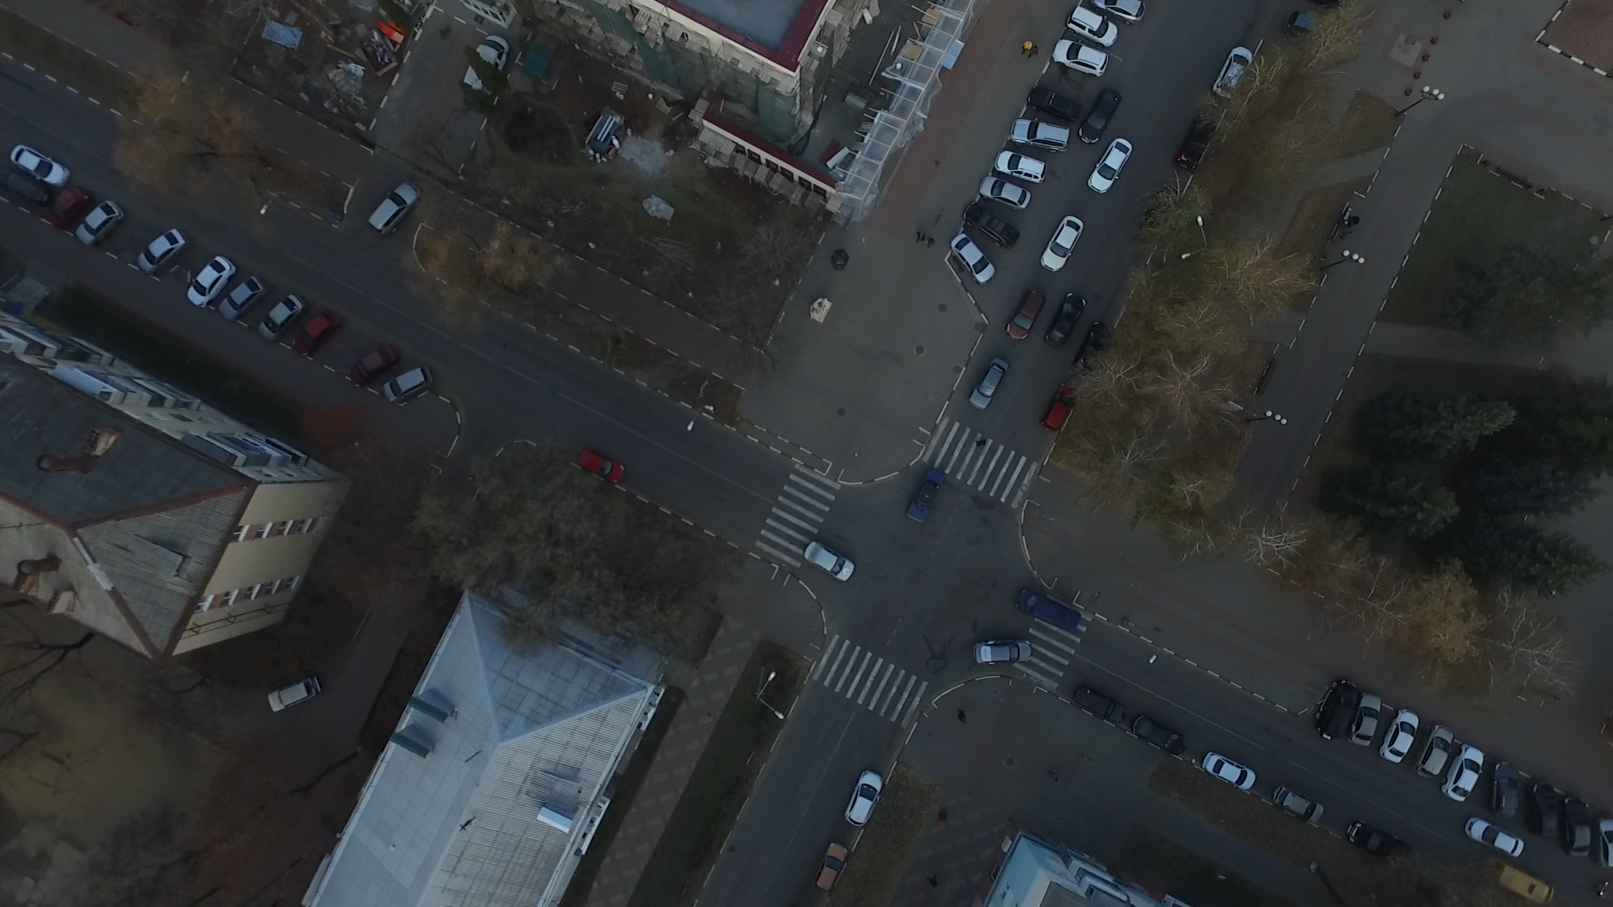car: (458, 37, 517, 97), (1486, 854, 1557, 904), (8, 140, 72, 192), (1015, 587, 1082, 636), (368, 181, 429, 234), (1344, 822, 1412, 867), (1000, 284, 1052, 342), (1309, 678, 1359, 736), (1175, 113, 1222, 175), (183, 252, 237, 306), (962, 200, 1017, 252), (1041, 293, 1093, 348), (1083, 136, 1131, 195), (1073, 87, 1124, 142), (1037, 216, 1087, 271), (840, 767, 883, 831), (1465, 815, 1525, 858), (1213, 47, 1258, 103), (1440, 742, 1484, 800), (133, 230, 191, 274), (1026, 81, 1081, 125), (1009, 118, 1069, 159), (965, 357, 1010, 410), (951, 234, 996, 287), (222, 272, 275, 318), (1200, 751, 1258, 792), (1051, 39, 1112, 78), (347, 346, 404, 385), (257, 293, 307, 339), (902, 472, 946, 523), (803, 538, 855, 581), (1270, 787, 1325, 827), (574, 441, 625, 484), (1132, 714, 1184, 756), (1377, 709, 1418, 762), (1066, 6, 1119, 47), (289, 316, 342, 357), (381, 368, 435, 408), (992, 150, 1050, 186), (265, 676, 321, 713), (1346, 689, 1381, 748), (1039, 382, 1077, 436), (978, 176, 1029, 216), (75, 204, 122, 247), (1416, 725, 1453, 779), (1069, 322, 1112, 368), (1073, 687, 1126, 724), (810, 844, 850, 891), (45, 185, 92, 225), (1492, 755, 1521, 820), (1564, 792, 1593, 855), (1532, 780, 1560, 841), (1284, 7, 1326, 44), (976, 640, 1032, 664), (1096, 1, 1144, 25), (1595, 820, 1613, 872)
